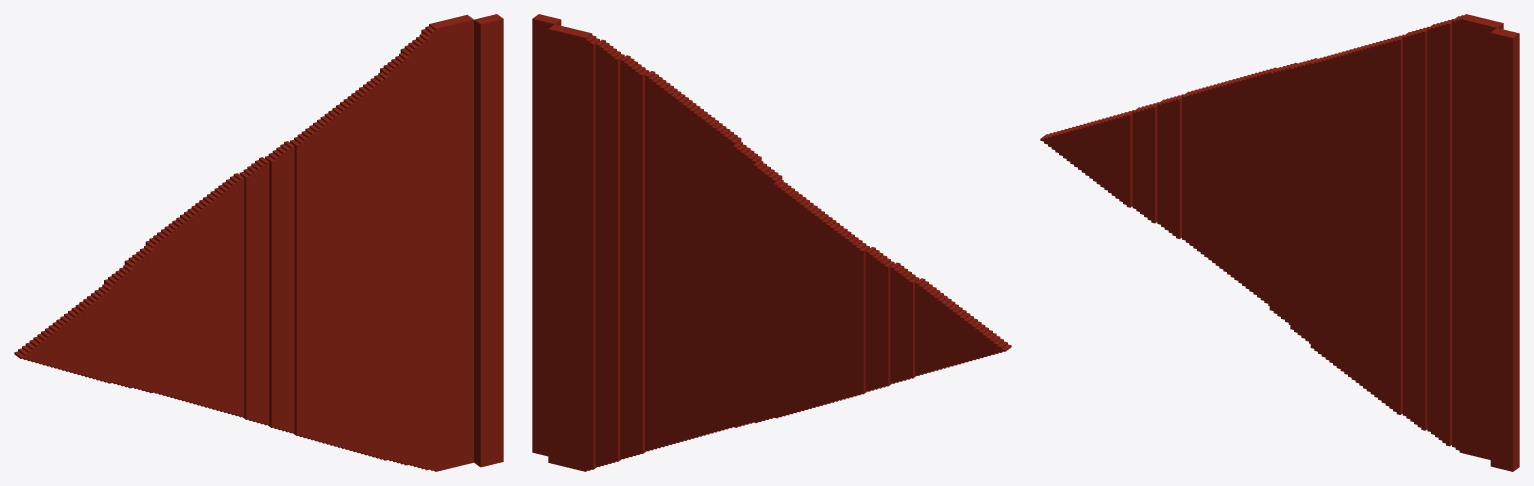
Rendered from flag_full8-0.obj.
The picture shows the model from 3 angles, left to right: view 1: azimuth 30°, elevation 25°; view 2: azimuth 150°, elevation 25°; view 3: azimuth 330°, elevation 25°; orthographic projection. The views are drawn at different scales.
Size of the model in its own units: 25.2 by 22.1 by 1.2.
Materials: 1 (1 with a texture image).
